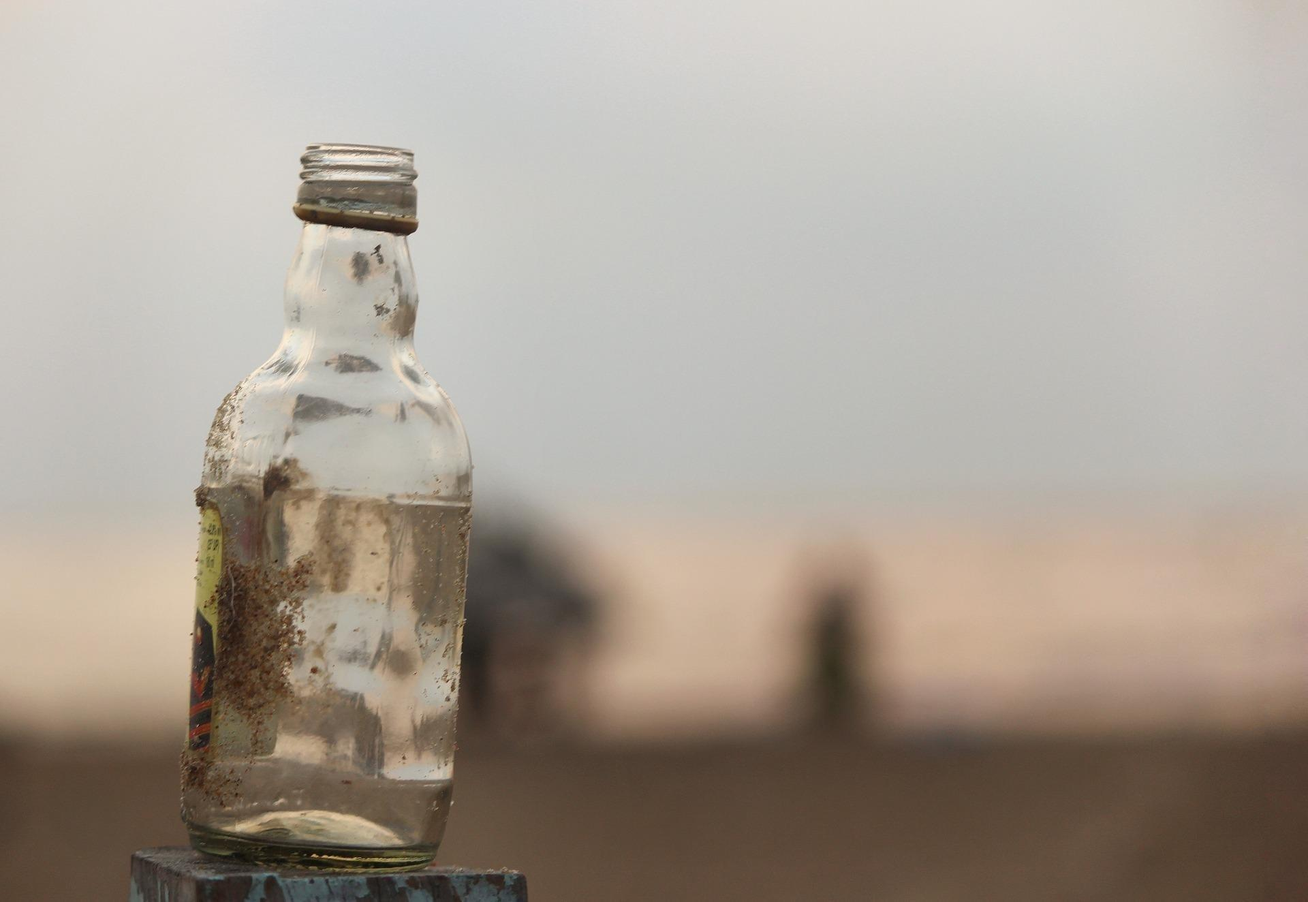bottle-glass: (176, 140, 474, 887)
